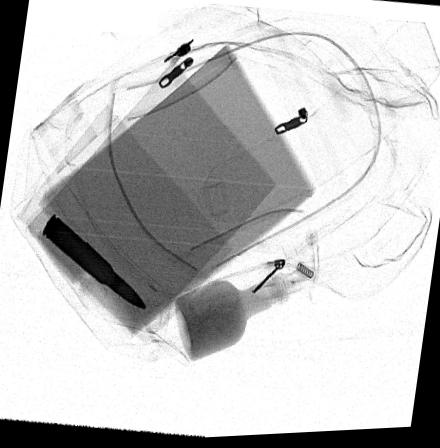Bullet: (41, 213, 148, 312)
